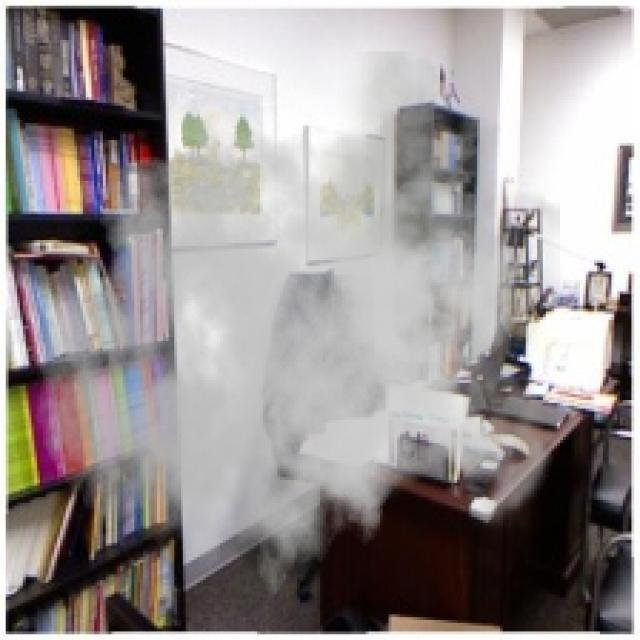Smoke: (34, 51, 560, 620)
